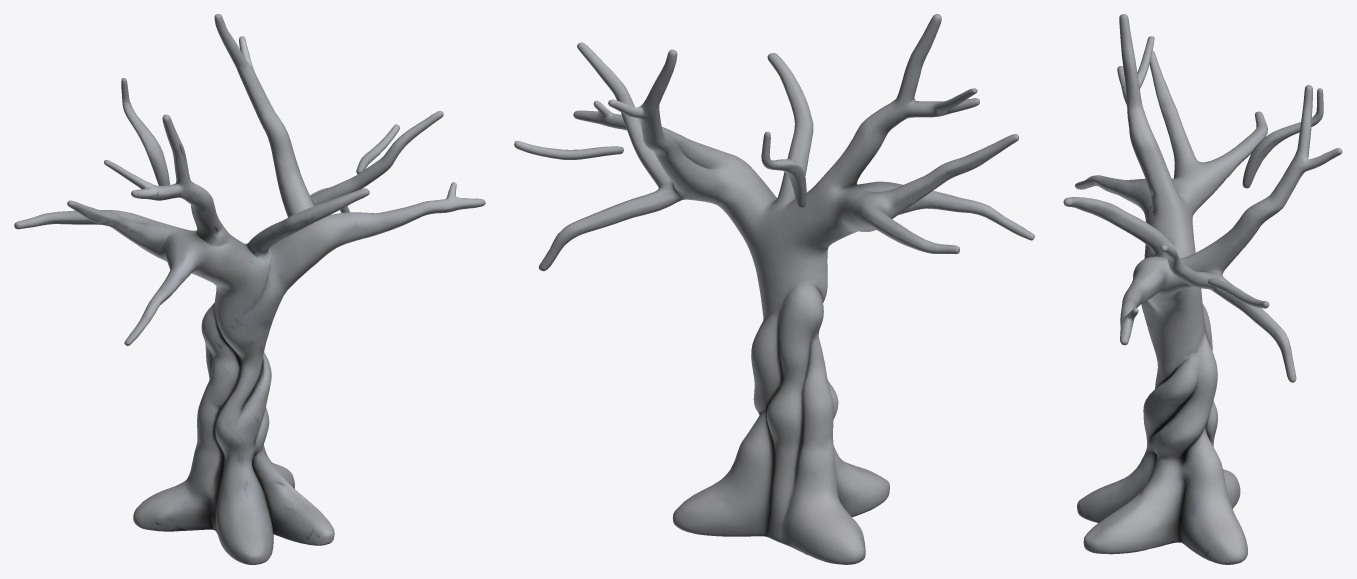
Rendered from dead_tree.glb.
3 views of the same model, side by side, from view 1: azimuth 30°, elevation 25°; view 2: azimuth 150°, elevation 25°; view 3: azimuth 270°, elevation 25° (orthographic). The views are drawn at different scales.
Visible parts, largest first — view 1: Mesh; view 2: Mesh; view 3: Mesh.
Boxes of the visible parts, box(x1,y1,x2,y2) form: Mesh: box(14, 14, 485, 564); Mesh: box(514, 14, 1034, 564); Mesh: box(1063, 14, 1342, 564).
Bounding box in the file's own units: 1.78 × 1.9 × 1.03.
Materials: 1 (1 with a texture image).
